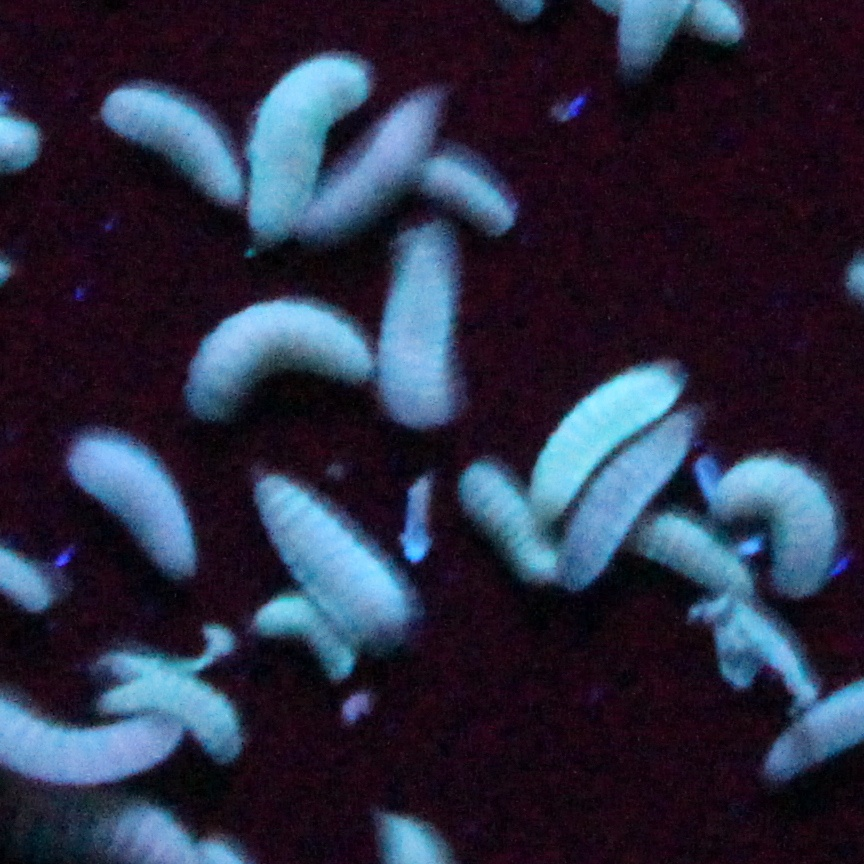larve: (254, 474, 412, 659), (560, 413, 692, 589), (248, 55, 370, 235), (182, 301, 370, 417), (533, 365, 679, 514), (70, 437, 195, 575), (307, 98, 434, 233), (713, 458, 836, 597), (102, 89, 240, 203), (378, 235, 451, 425), (99, 673, 240, 758), (628, 511, 751, 599), (461, 464, 555, 577), (256, 596, 353, 680), (422, 157, 510, 235)
